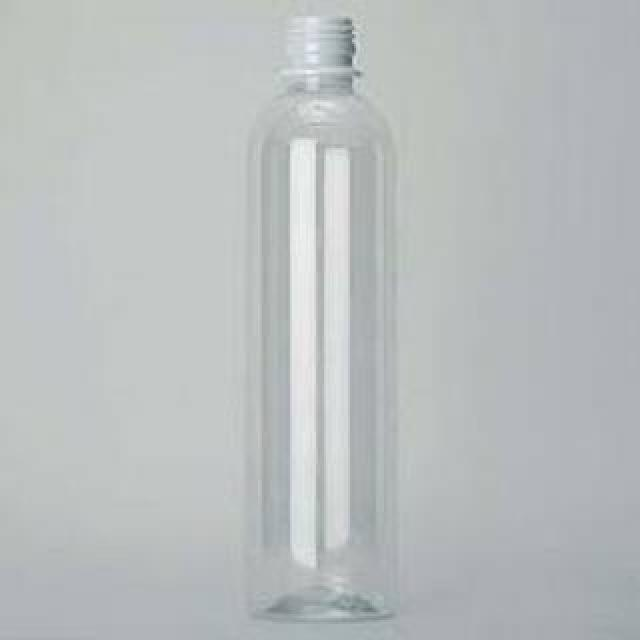Pet_Bottle: (217, 11, 427, 625)
